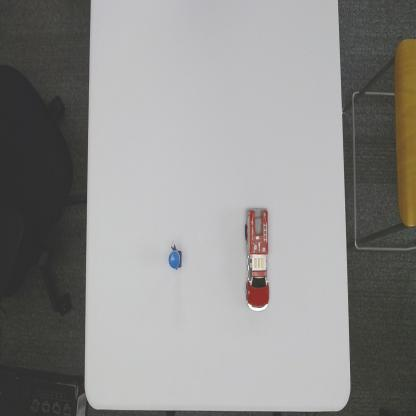Firetruck: (243, 204, 271, 315)
